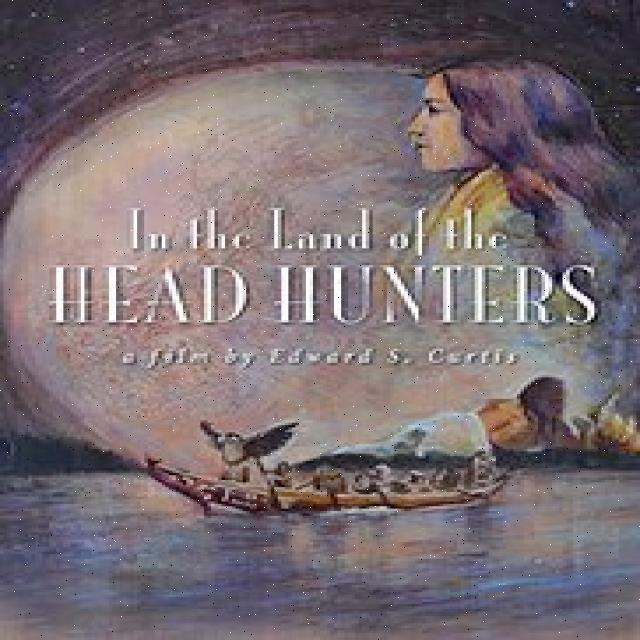movie-judul: (43, 255, 604, 335)
picture: (149, 376, 640, 520), (404, 59, 640, 354)
